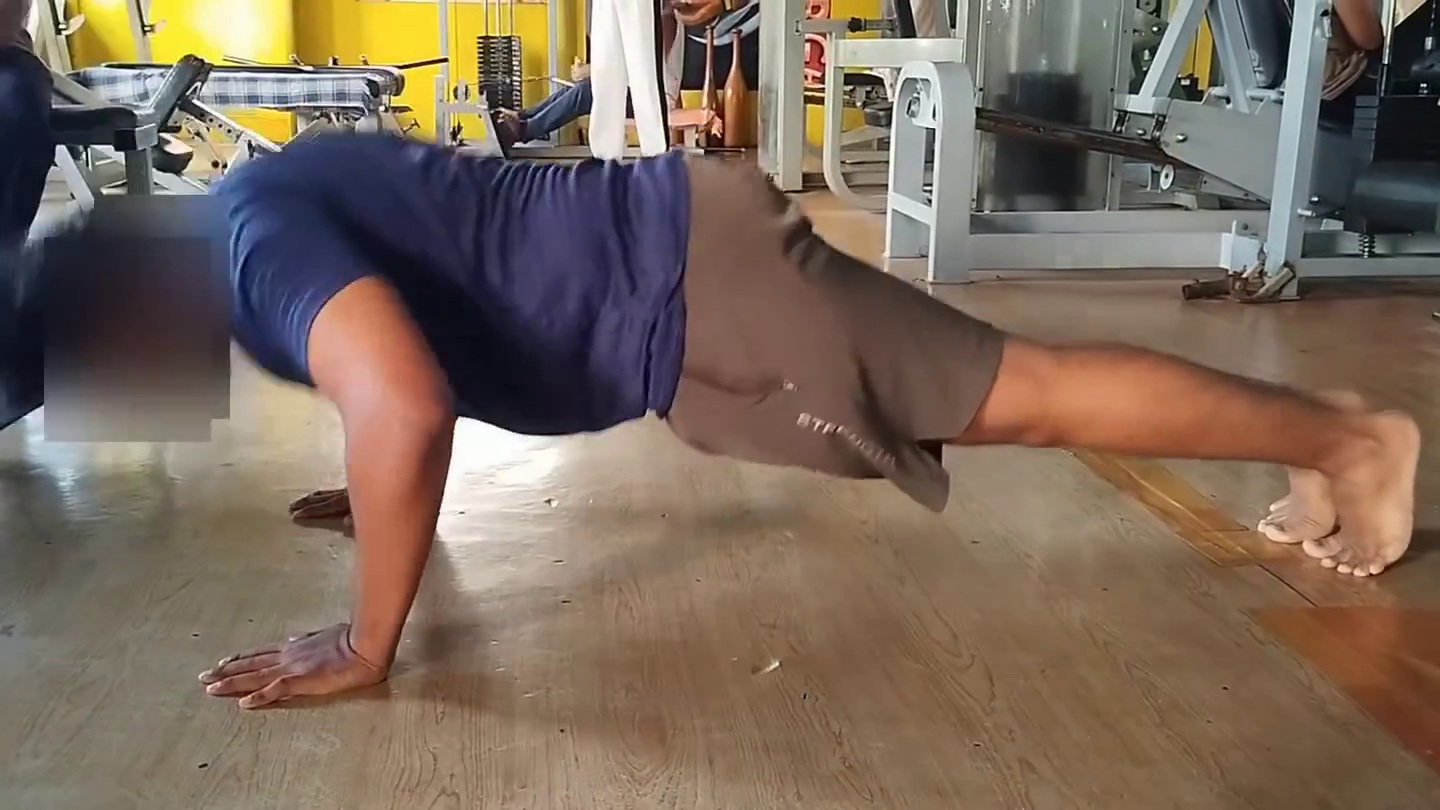push_up_incorrect: (0, 76, 1440, 799)
